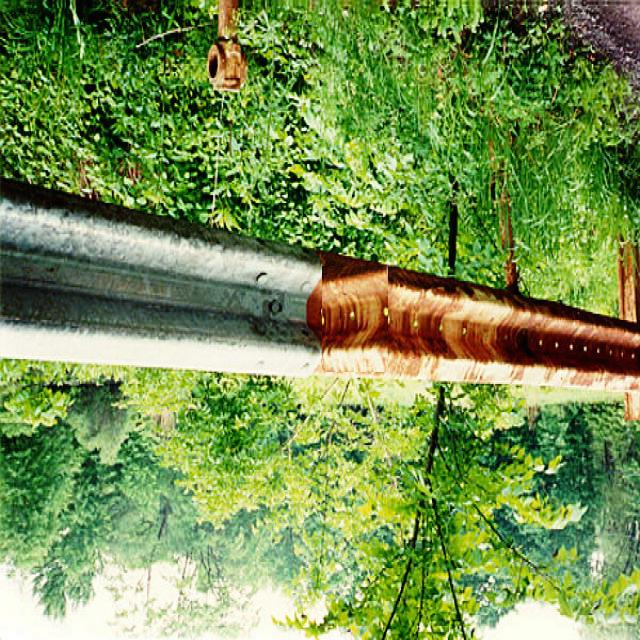Corrosion: (309, 252, 640, 390), (207, 0, 246, 90), (619, 242, 640, 323), (625, 392, 640, 420)
